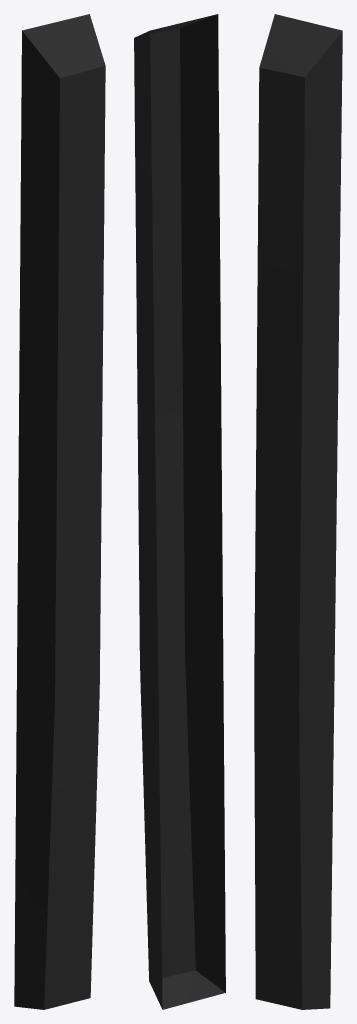
The model's file is FridgePuertaInferiorManija.obj.
3 renders of one model, left to right at view 1: azimuth 30°, elevation 25°; view 2: azimuth 210°, elevation 25°; view 3: azimuth 330°, elevation 25°, orthographic.
Parts seen in each view (by area): view 1: polySurface2 B_Electric_0_007_2; view 2: polySurface2 B_Electric_0_007_2; view 3: polySurface2 B_Electric_0_007_2.
Part boxes in pixels (<box>): polySurface2 B_Electric_0_007_2: <box>14,14,105,1009</box>; polySurface2 B_Electric_0_007_2: <box>134,14,225,1009</box>; polySurface2 B_Electric_0_007_2: <box>254,14,342,1009</box>.
Bounding box in the file's own units: 0.0539 × 0.6667 × 0.0332.
1 material, 1 textured.
